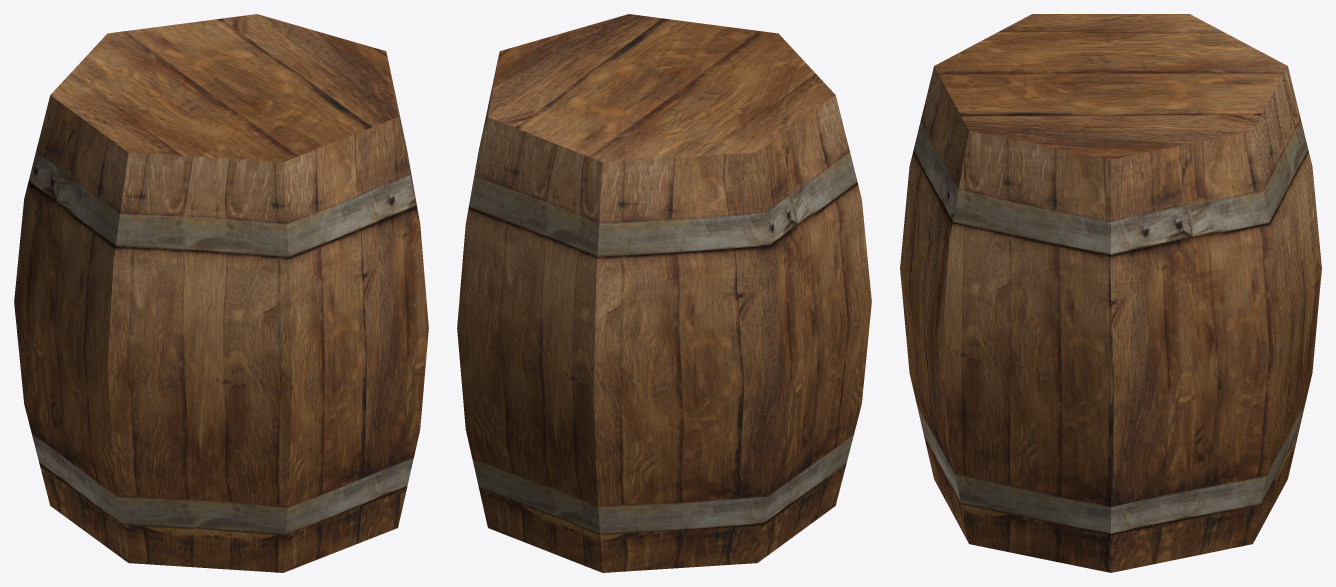
File: Barrel.fbx
The picture shows the model from 3 angles, left to right: view 1: azimuth 30°, elevation 25°; view 2: azimuth 150°, elevation 25°; view 3: azimuth 270°, elevation 25°; orthographic projection.
Parts seen in each view (by area): view 1: pCylinder12; view 2: pCylinder12; view 3: pCylinder12.
Part boxes in pixels (box(x1,y1,x2,y2)): pCylinder12: box(14, 14, 428, 572); pCylinder12: box(457, 14, 871, 572); pCylinder12: box(900, 14, 1321, 572).
Size of the model in its own units: 30.42 by 33.72 by 31.21.
1 material, 1 textured.
